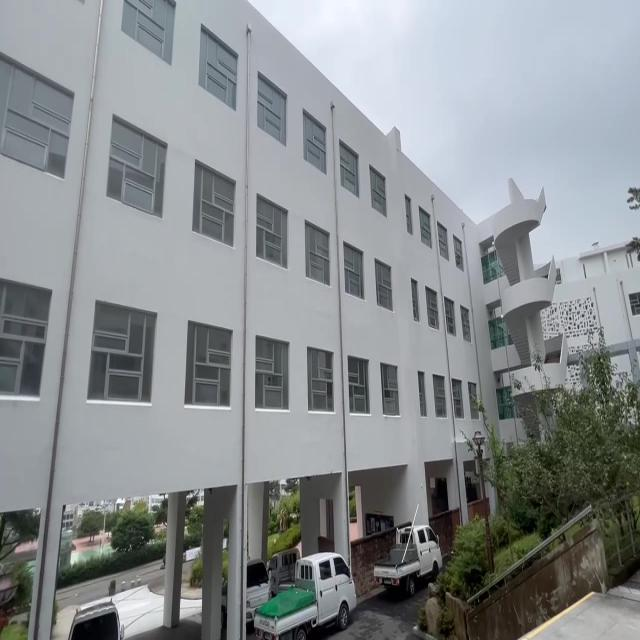building: (18, 24, 479, 442)
